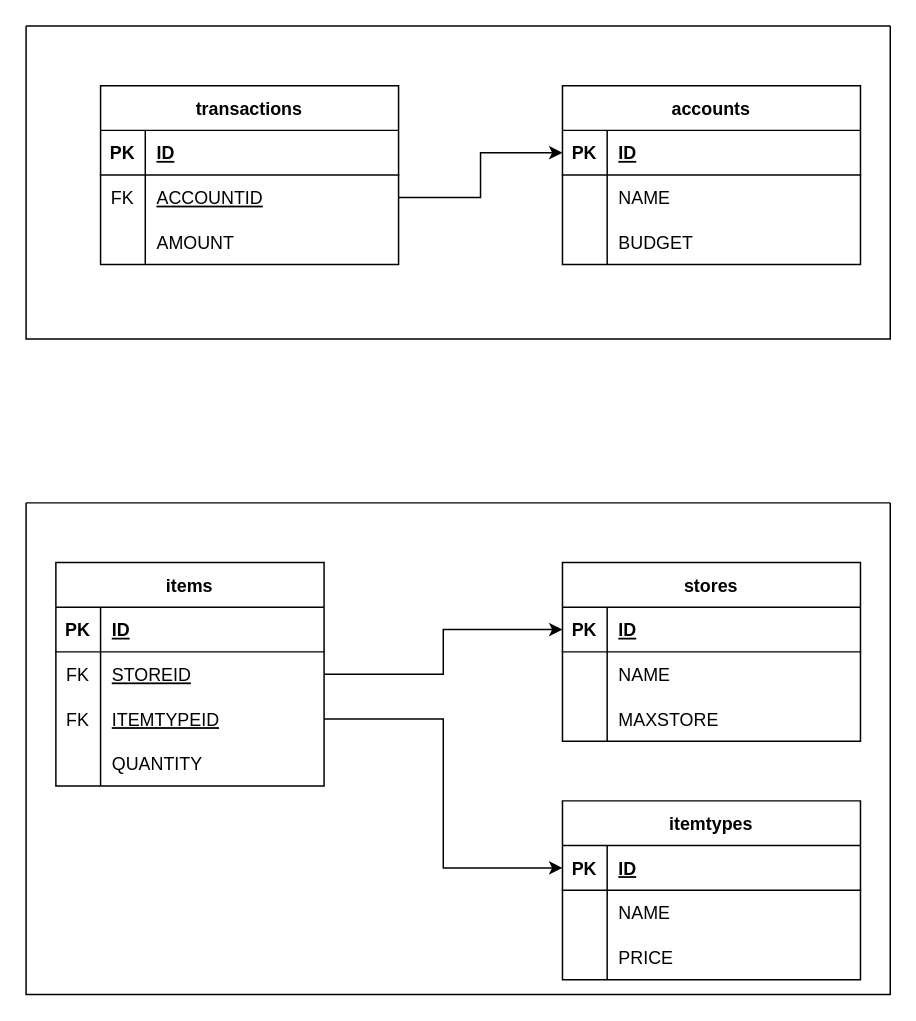
Image size: 916x1021. Some labels were removed from this diagram. The centre of each missing label's shape, as x and y in pixels:
"accounting" belongs at (x=457, y=182).
"inventory" belongs at (x=457, y=748).
